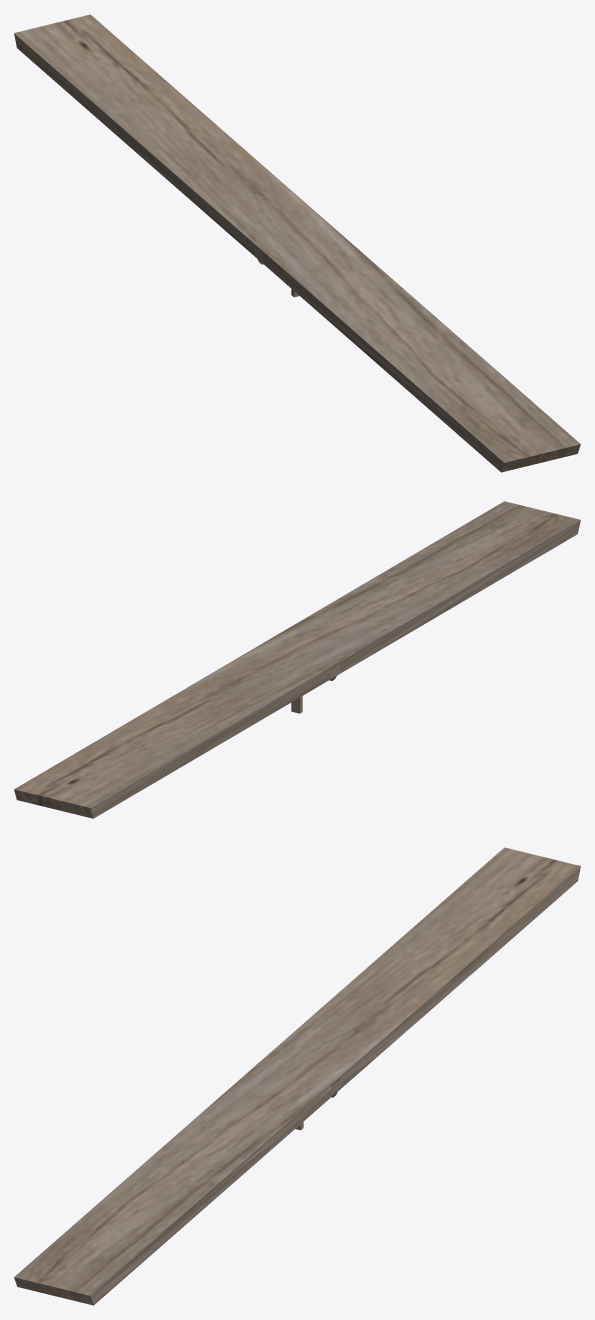
Rendered from Seesaw.fbx.
3 renders of one model, top to bottom at view 1: azimuth 30°, elevation 25°; view 2: azimuth 150°, elevation 25°; view 3: azimuth 330°, elevation 25°, orthographic.
Parts seen in each view (by area): view 1: Seesaw; view 2: Seesaw; view 3: Seesaw.
Boxes of the visible parts, x1,y1,x2,y2 form: Seesaw: [14, 14, 580, 472]; Seesaw: [14, 501, 580, 818]; Seesaw: [14, 847, 580, 1305].
Bounding box in the file's own units: 151 × 174 × 1677.
